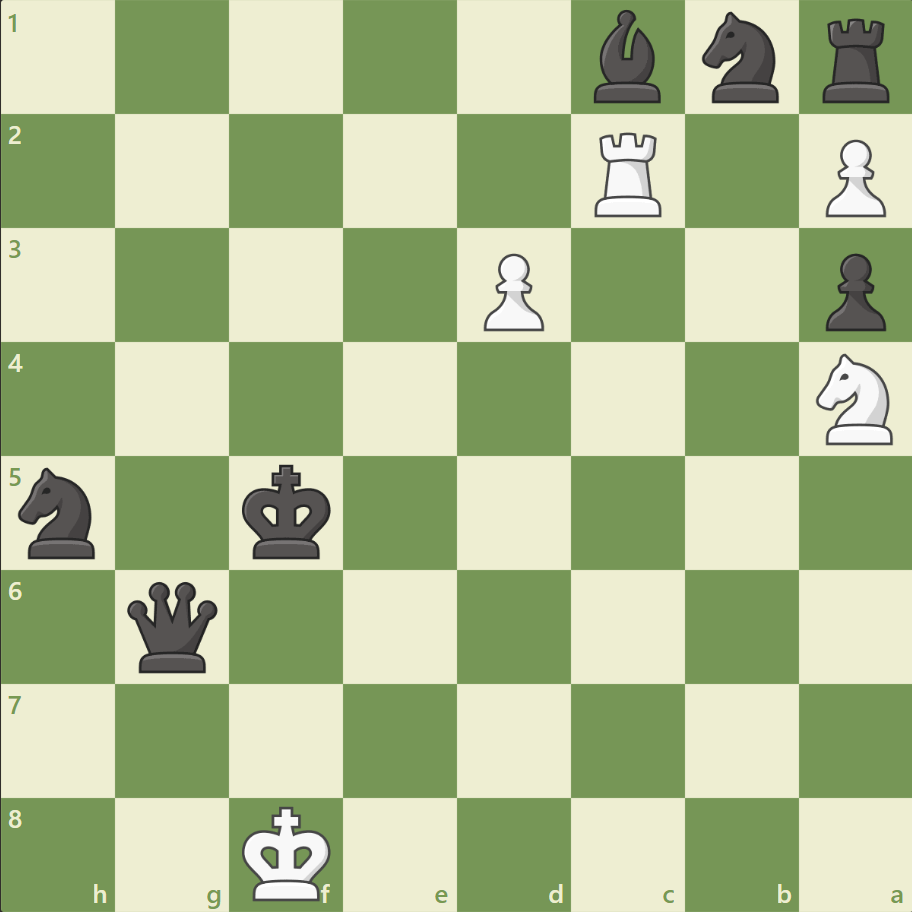K: (238, 798, 338, 906)
N: (806, 348, 903, 450)
P: (474, 246, 549, 337), (815, 132, 889, 223)
R: (587, 125, 670, 222)
b: (585, 6, 669, 109)
k: (238, 458, 338, 566)
n: (11, 461, 108, 564), (692, 7, 789, 110)
p: (815, 246, 889, 337)
q: (124, 576, 223, 676)
r: (814, 12, 897, 109)
